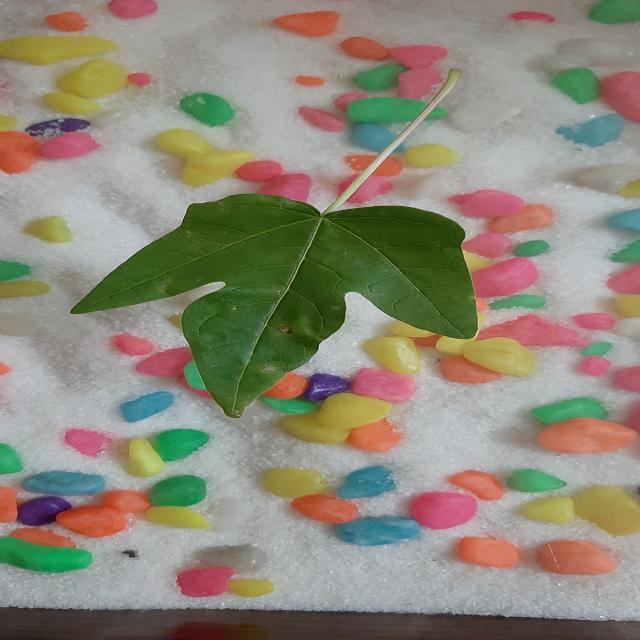papaya: (70, 194, 477, 418)
